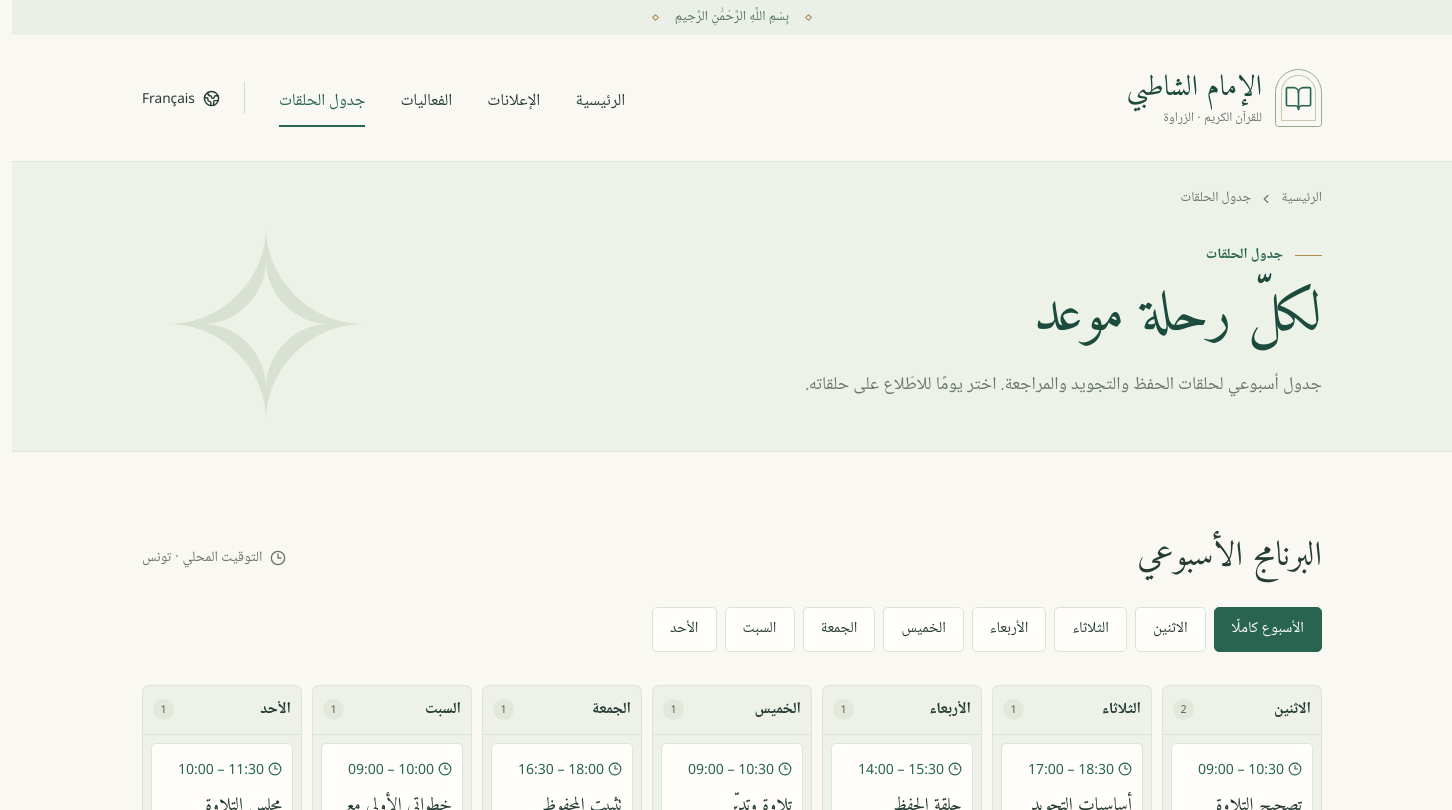
Scenario: switching language preserves the chosen timetable day and unrelated query parameters
This screenshot has width=1452, height=810.
Expected: the heading "لكلّ رحلة موعد" is shown, [1034, 266, 1322, 366]
Click the button "الأربعاء".
click(1009, 630)  # box [972, 607, 1046, 652]
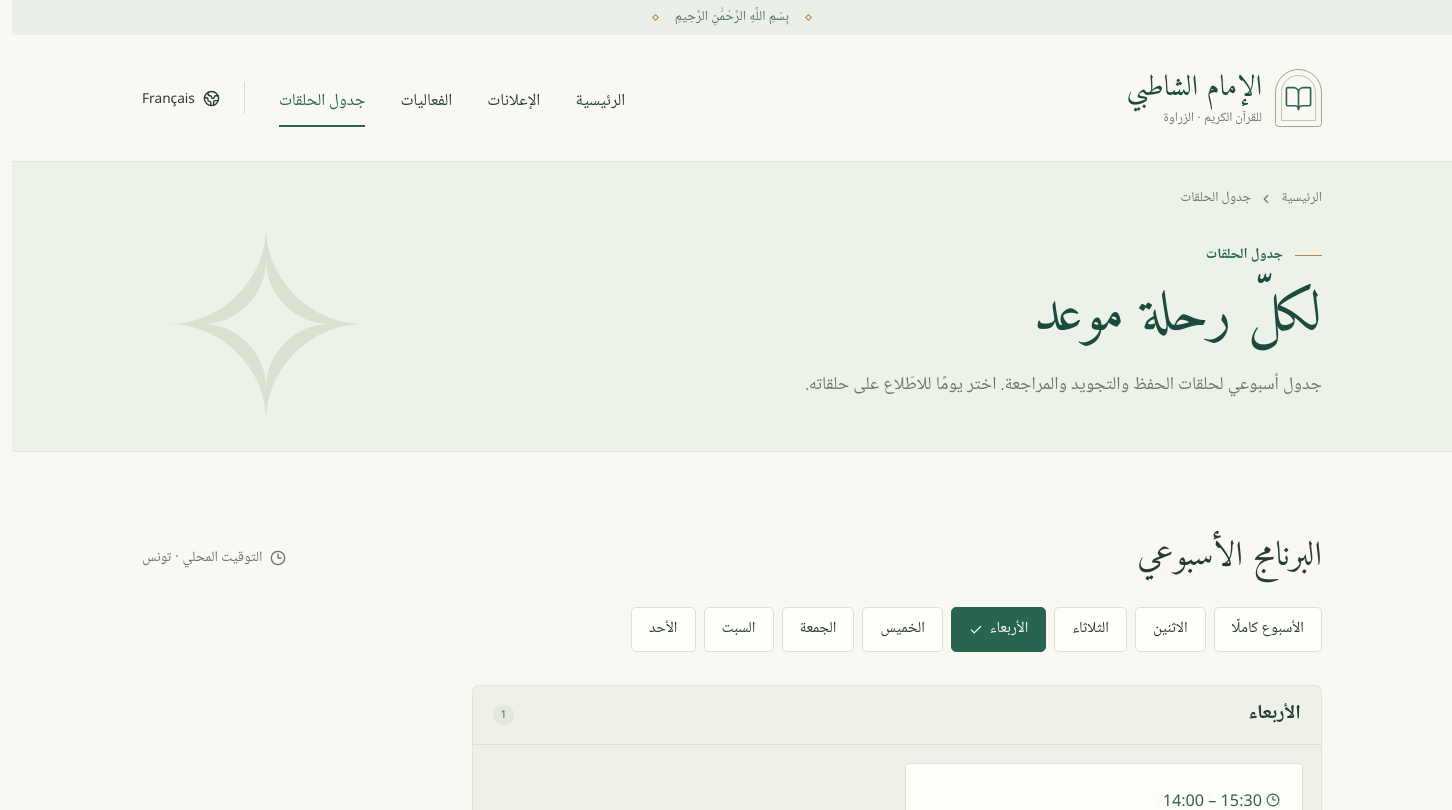
Expected: the button "الأربعاء" is pressed, [951, 607, 1046, 652]
Click the button with aria-label "Passer en français".
click(193, 98)  # box [142, 82, 245, 114]
(page scrolled)
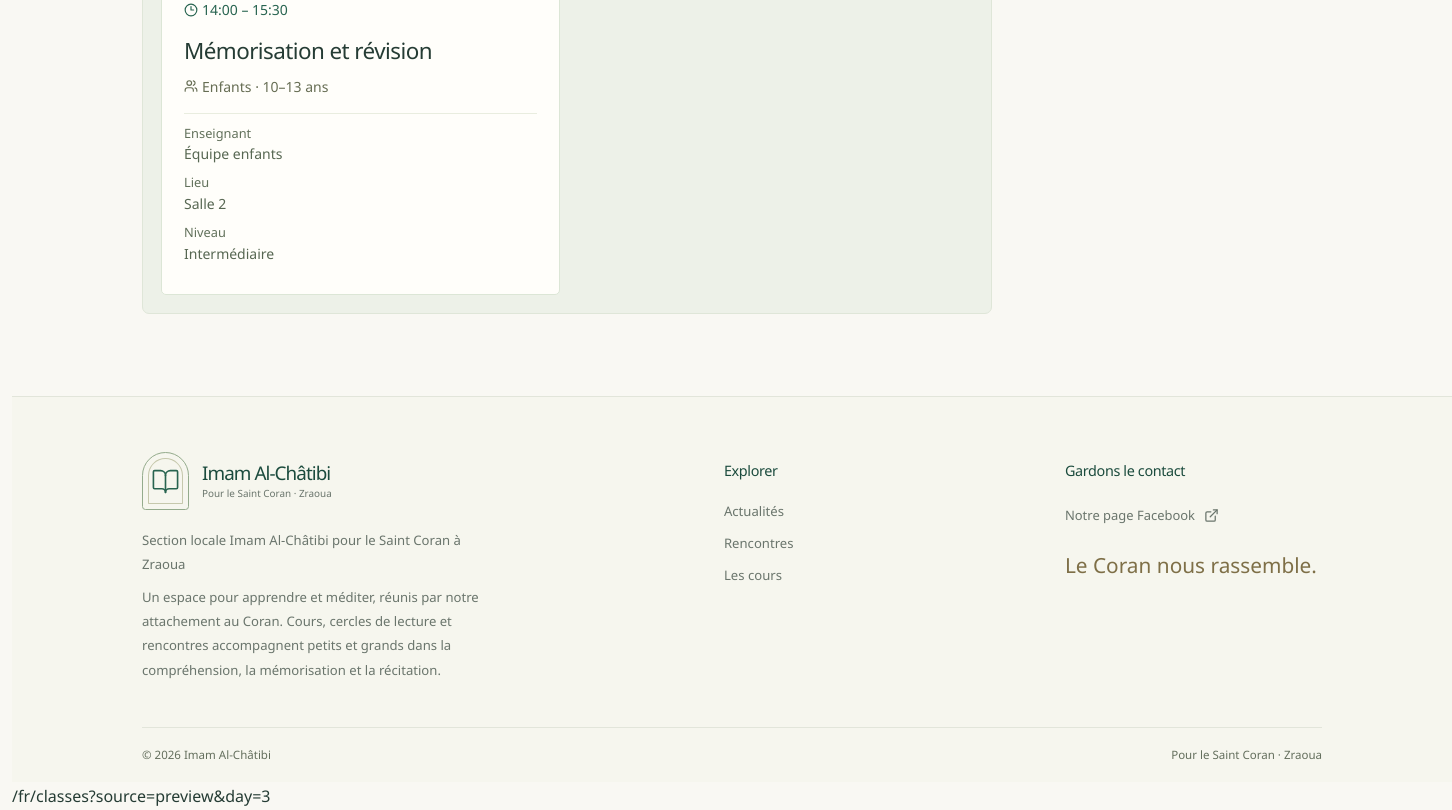
Expected: the text with test id "current-location" reads "/fr/classes?source=preview&day=3", [12, 785, 270, 807]
